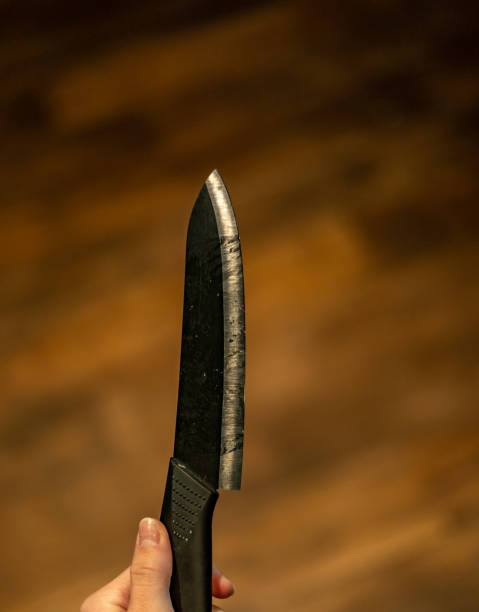knife: (151, 165, 249, 612)
